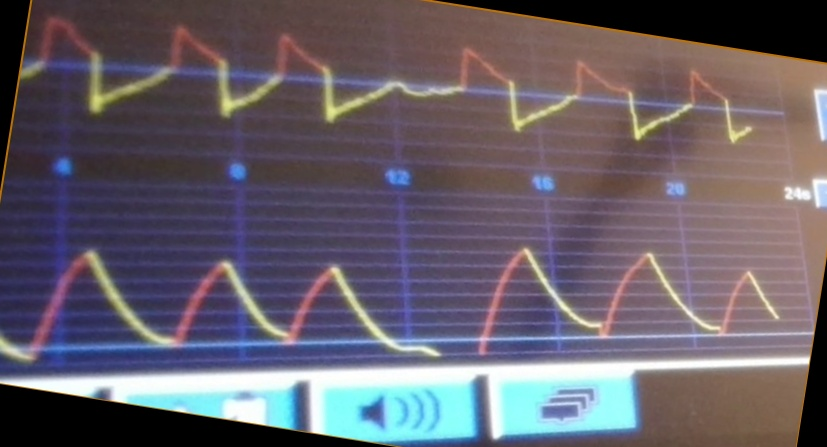Ineffective_effort Flow: (28, 13, 752, 147)
Ineffective_effort Volume: (3, 236, 782, 362)
